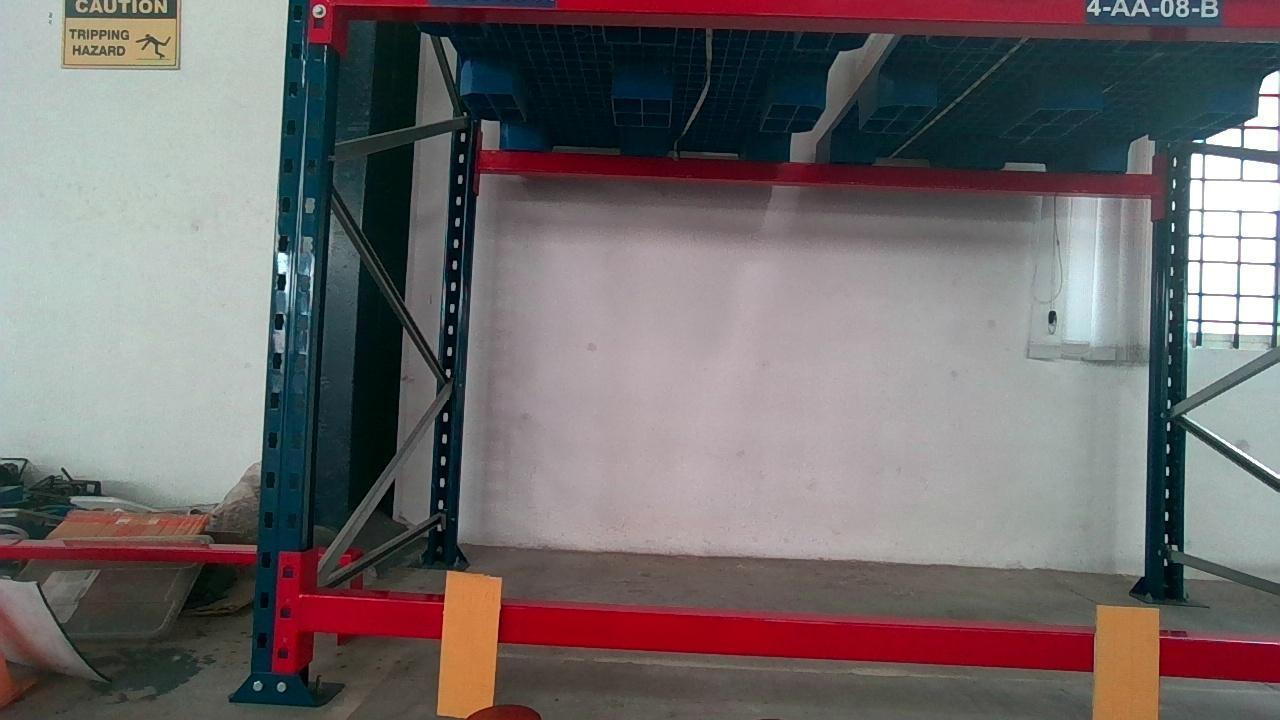h_rack: (299, 593, 1280, 677)
orange_strip: (438, 571, 501, 715), (1094, 607, 1161, 720)
